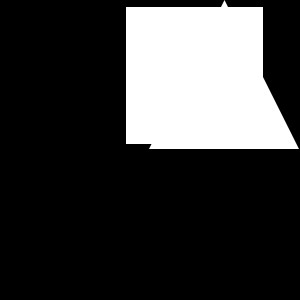circle: (126, 7, 263, 144)
triangle: (150, 0, 299, 149), (149, 19, 279, 149), (170, 23, 281, 134)
